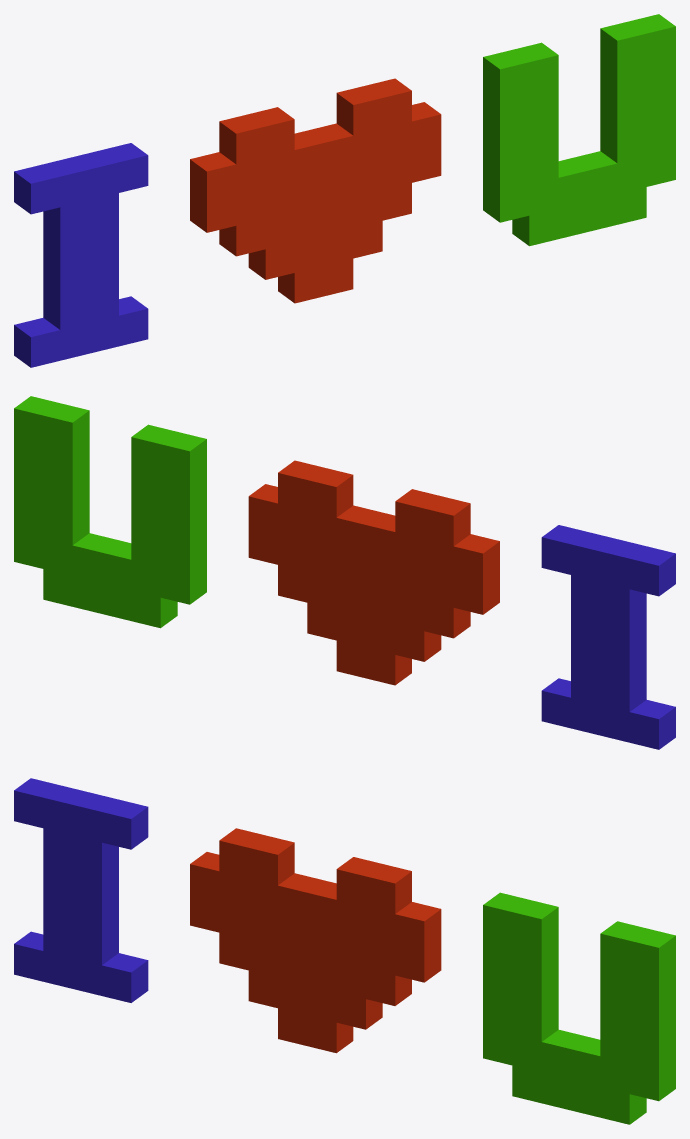
3 views of the same model, one above another, from view 1: azimuth 30°, elevation 25°; view 2: azimuth 150°, elevation 25°; view 3: azimuth 330°, elevation 25° (orthographic).
Visible parts, largest first — view 1: Null, Null_1, Null_2, Null_4, Null_3, Null_5; view 2: Null, Null_1, Null_2, Null_4, Null_3, Null_5; view 3: Null, Null_1, Null_2, Null_4, Null_3, Null_5.
Boxes of the visible parts, bbox=[...] form: Null: bbox=[14, 14, 675, 214]; Null_1: bbox=[43, 57, 675, 237]; Null_2: bbox=[43, 88, 675, 268]; Null_4: bbox=[43, 149, 675, 329]; Null_3: bbox=[43, 118, 675, 299]; Null_5: bbox=[14, 187, 646, 367]; Null: bbox=[14, 396, 675, 596]; Null_1: bbox=[14, 439, 646, 619]; Null_2: bbox=[14, 470, 646, 650]; Null_4: bbox=[14, 531, 646, 711]; Null_3: bbox=[14, 500, 646, 681]; Null_5: bbox=[43, 569, 675, 749]; Null: bbox=[14, 778, 675, 978]; Null_1: bbox=[43, 828, 675, 1008]; Null_2: bbox=[43, 859, 675, 1039]; Null_4: bbox=[43, 920, 675, 1101]; Null_3: bbox=[43, 890, 675, 1070]; Null_5: bbox=[14, 931, 646, 1124].
Size of the model in its own units: 990 by 270 by 45.
